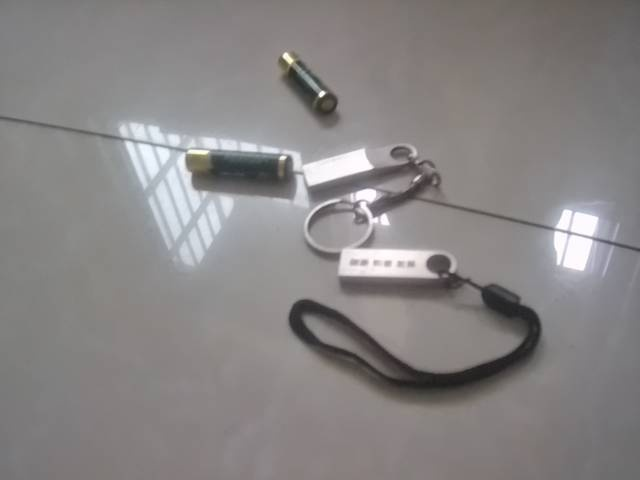U-disk: (294, 248, 544, 391), (300, 144, 448, 236)
battery: (273, 49, 340, 116), (178, 146, 296, 183)
